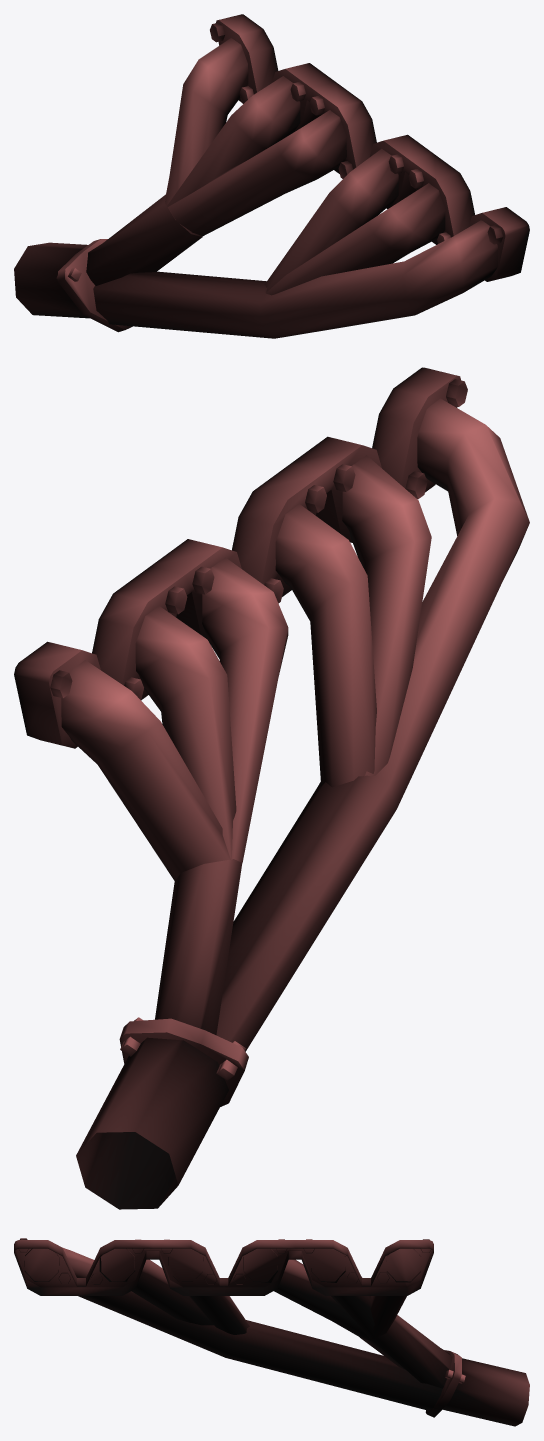
File: JZ_ExhaustManifold2.fbx
3 renders of one model, top to bottom at view 1: azimuth 30°, elevation 25°; view 2: azimuth 150°, elevation 25°; view 3: azimuth 270°, elevation 25°, orthographic. The views are drawn at different scales.
Parts seen in each view (by area): view 1: ExhaustManifold2; view 2: ExhaustManifold2; view 3: ExhaustManifold2.
Part boxes in pixels (<box>): ExhaustManifold2: <box>14,14,529,338</box>; ExhaustManifold2: <box>14,367,529,1209</box>; ExhaustManifold2: <box>14,1238,529,1426</box>.
Bounding box in the file's own units: 24.07 × 41.24 × 86.14.
